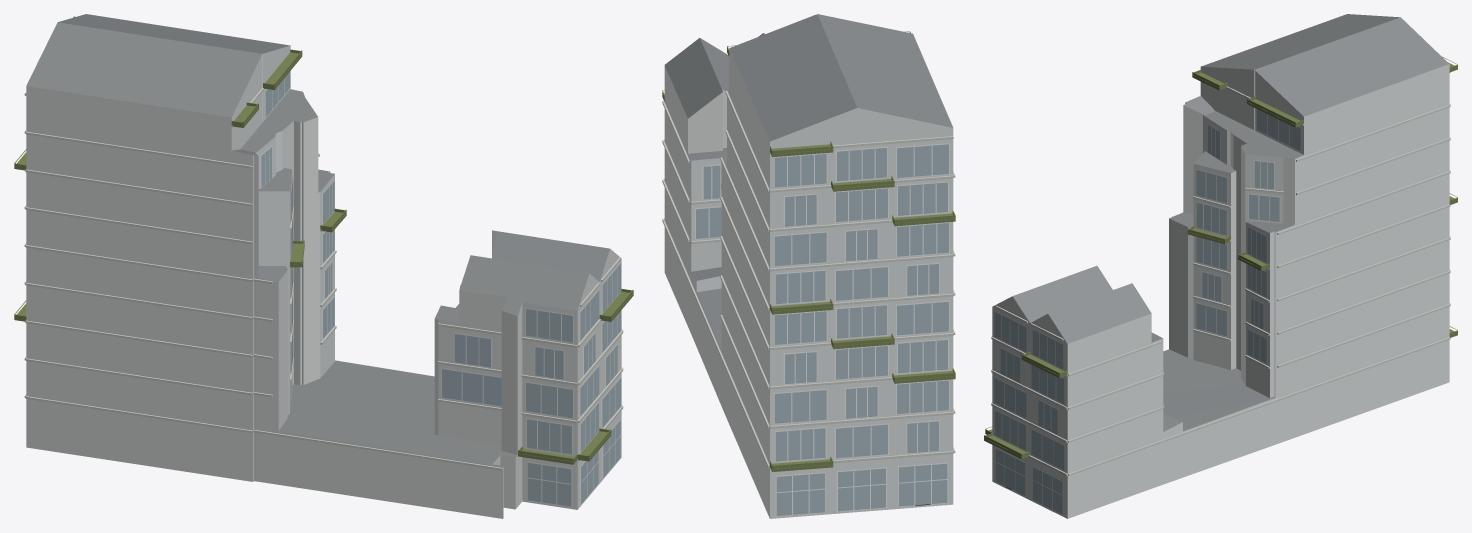
Rendered from haparandaweg-708-744.glb.
3 views of the same model, side by side, from view 1: azimuth 30°, elevation 25°; view 2: azimuth 150°, elevation 25°; view 3: azimuth 270°, elevation 25° (orthographic). The views are drawn at different scales.
Visible parts, largest first — view 1: haparandaweg-708-744; view 2: haparandaweg-708-744; view 3: haparandaweg-708-744.
Part boxes in pixels (x1=…): haparandaweg-708-744: x1=14, y1=14, x2=633, y2=518; haparandaweg-708-744: x1=662, y1=14, x2=955, y2=518; haparandaweg-708-744: x1=984, y1=14, x2=1457, y2=518.
Size of the model in its own units: 37.43 by 30.8 by 38.79.
